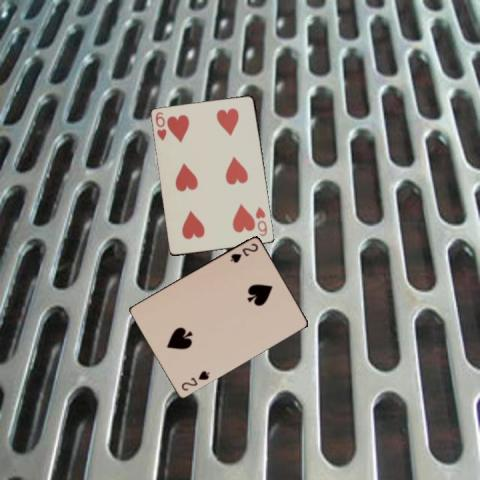2s: (178, 367, 211, 392), (228, 240, 260, 264)
6h: (252, 204, 269, 238), (153, 109, 168, 143)
